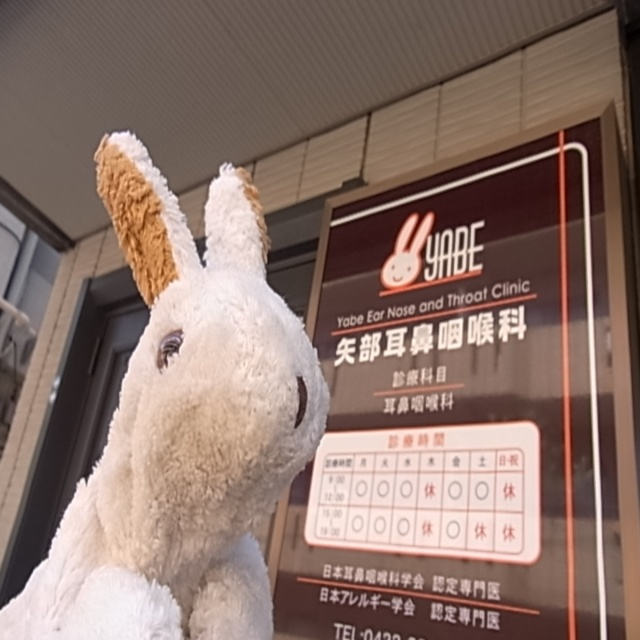Rabbit: (0, 125, 330, 639)
